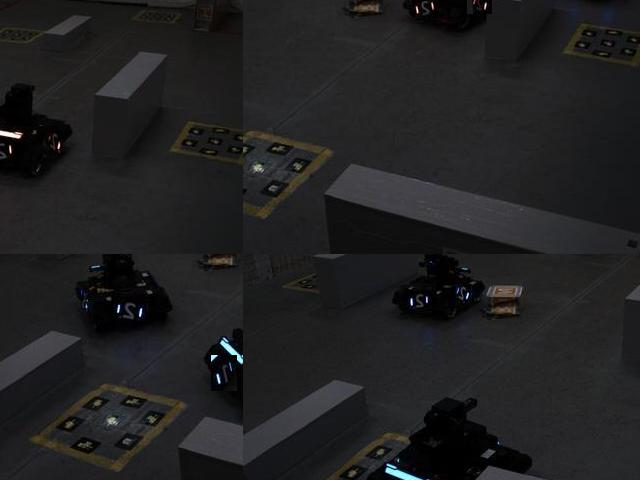armor: (212, 355, 239, 392), (115, 297, 148, 322), (412, 0, 444, 23), (44, 127, 65, 159), (407, 292, 431, 312), (0, 139, 16, 168), (467, 0, 493, 17), (456, 285, 473, 304)
